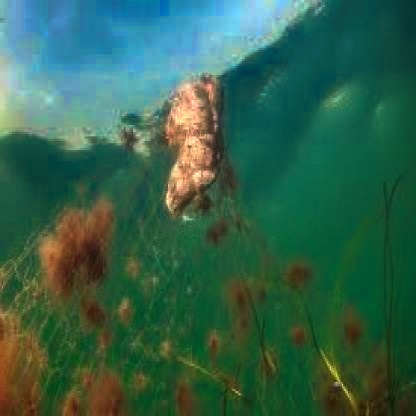net: (1, 148, 164, 416)
